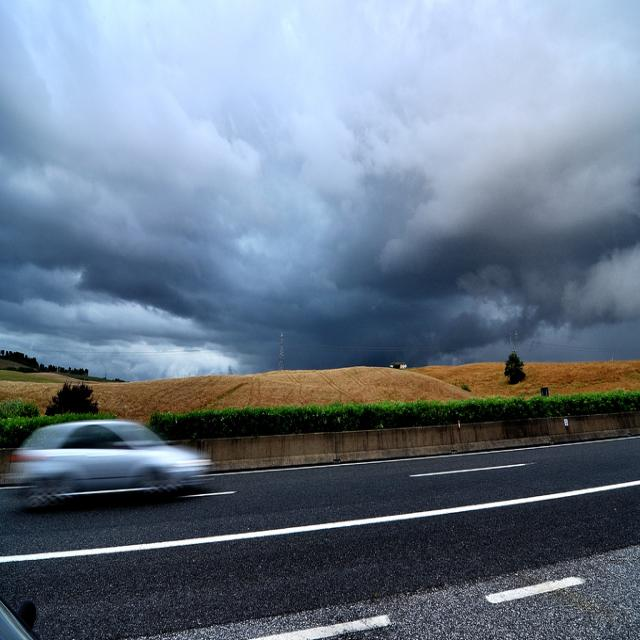car: (9, 420, 209, 517)
